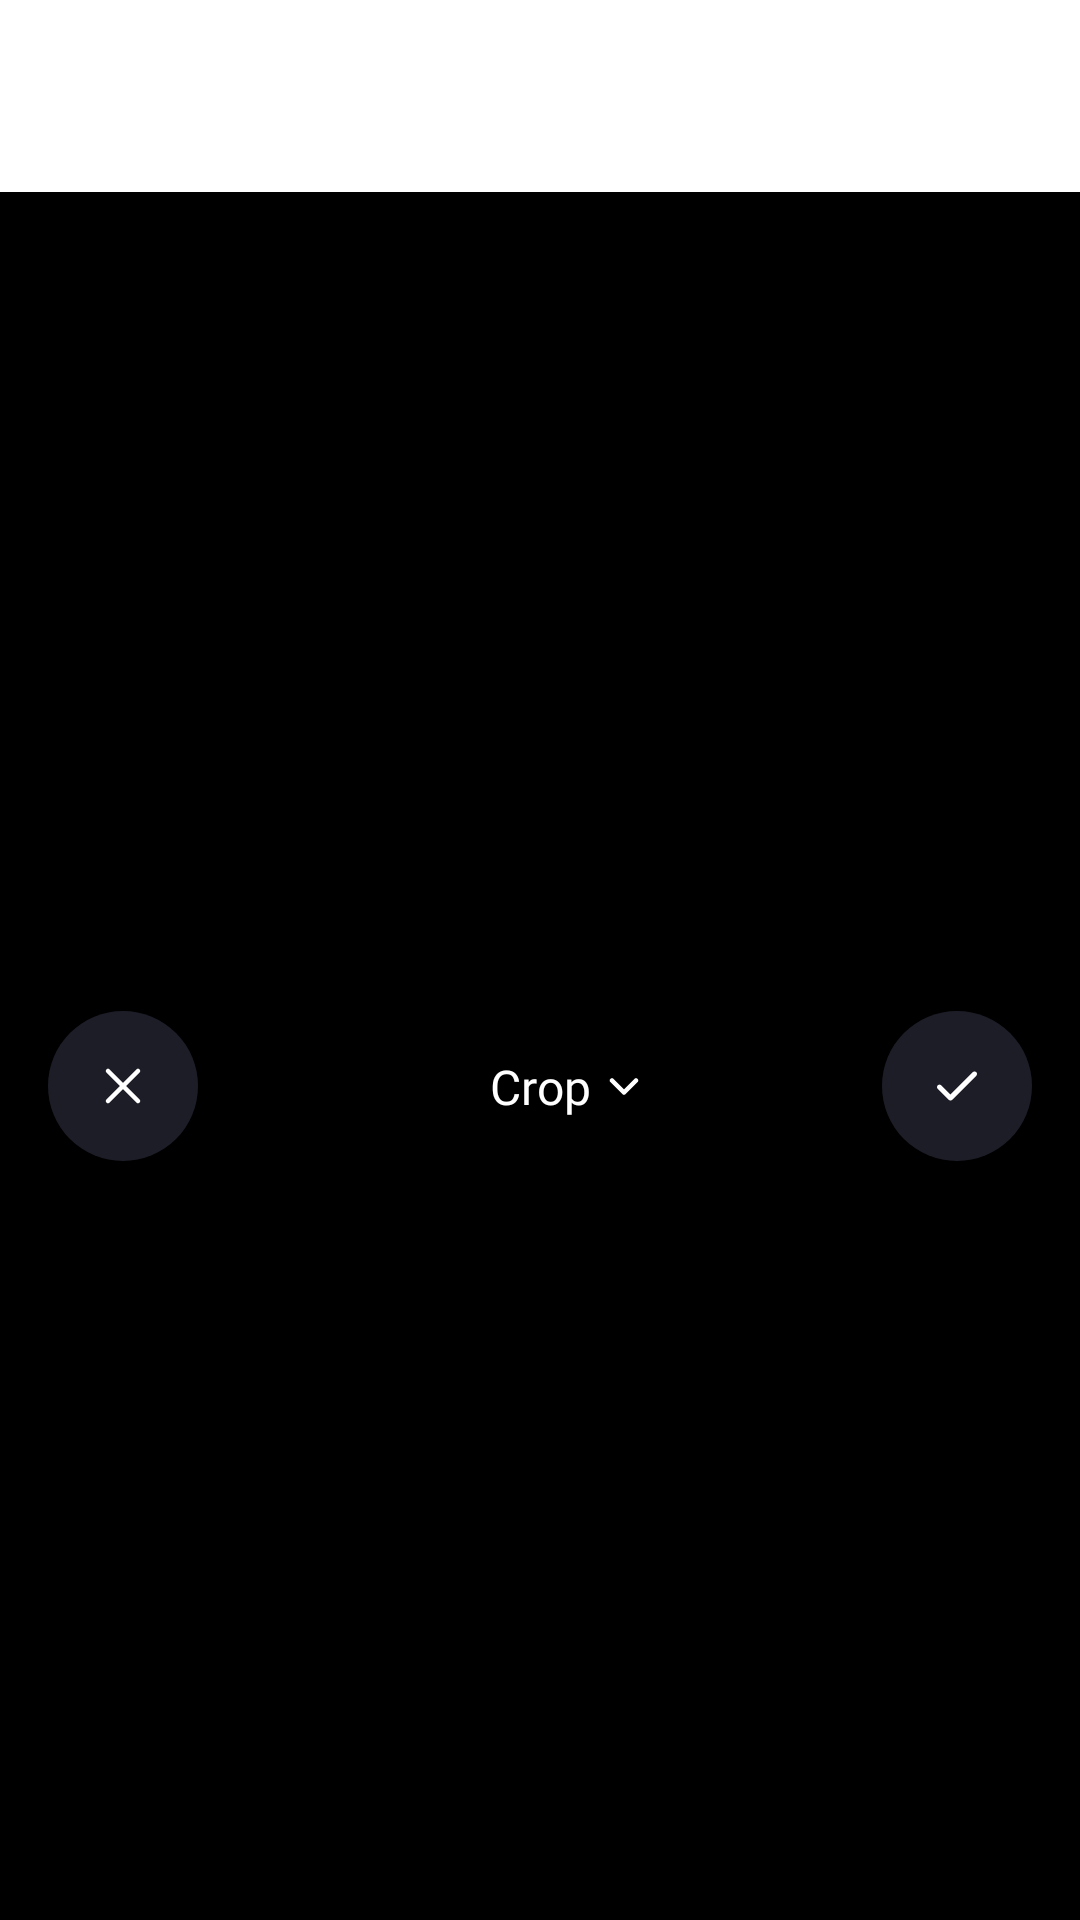

Screen size 1080×1920. Icon name, then its box in pixels as bbox=[x1, y1, x2, y2]:
edit check: bbox=[882, 1011, 1032, 1161]
edit close: bbox=[48, 1011, 198, 1161]
